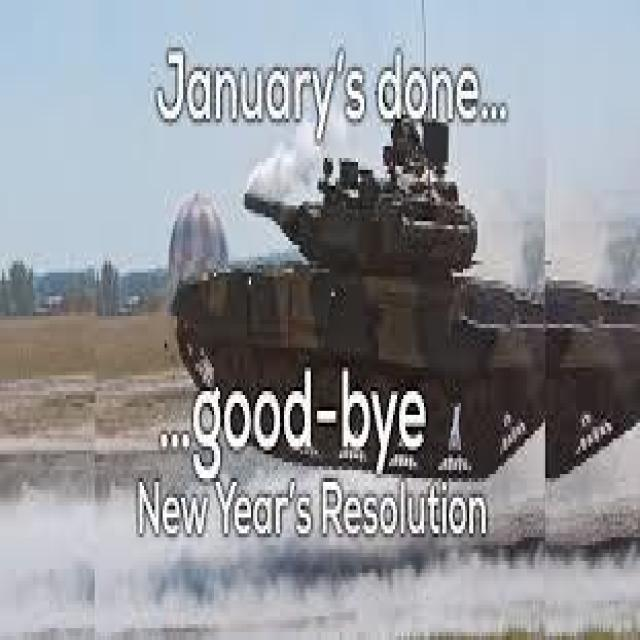Tanks: (157, 128, 635, 484)
